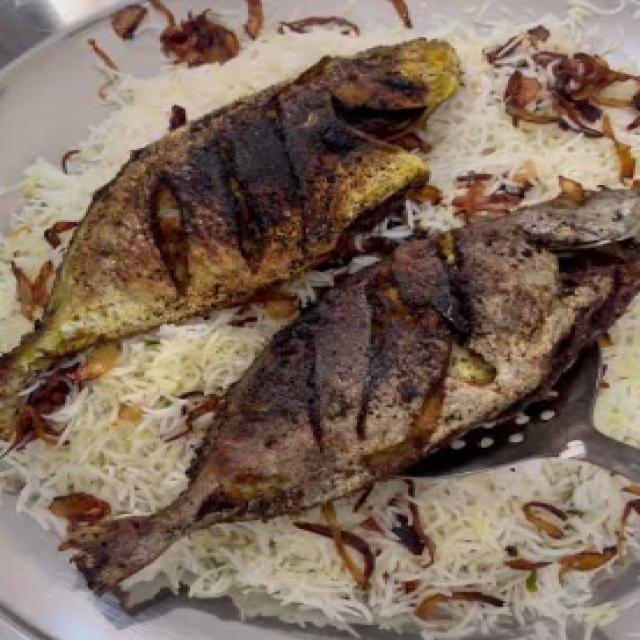Fried Fish: (2, 8, 640, 594)
